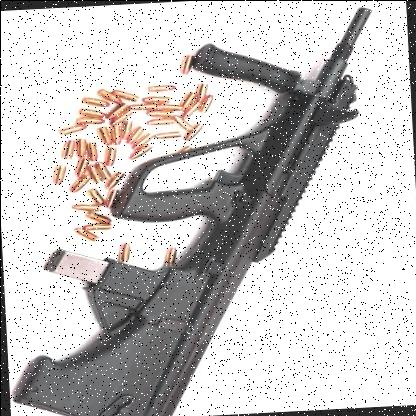rifle: (1, 3, 404, 416)
